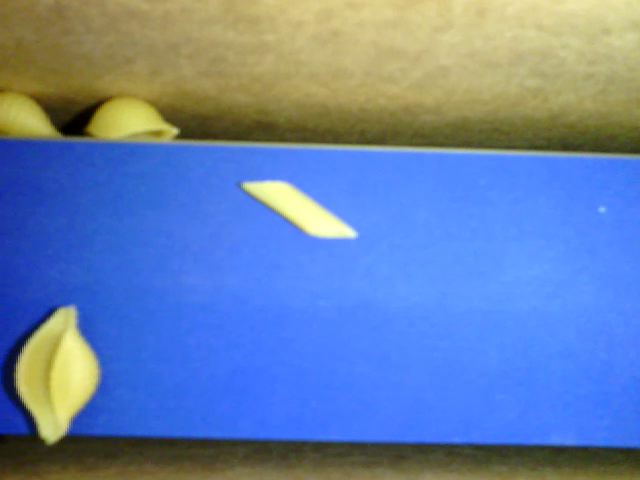penne: (240, 180, 356, 240)
shell: (12, 298, 100, 441), (86, 93, 181, 144), (1, 87, 67, 136)
